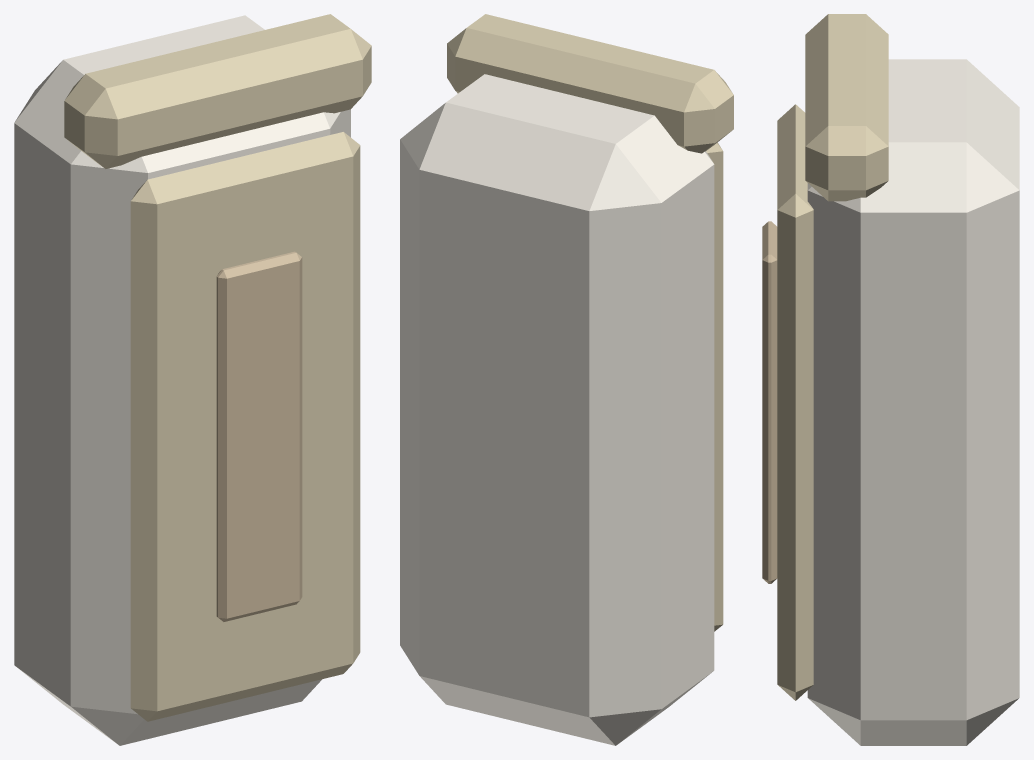
File: FTF_Equipment_CottonLegArmor_Left.glb
The picture shows the model from 3 angles, left to right: view 1: azimuth 30°, elevation 25°; view 2: azimuth 150°, elevation 25°; view 3: azimuth 270°, elevation 25°; orthographic projection. The views are drawn at different scales.
Visible parts, largest first — view 1: ShinOuterRim_L, ShinShell_L, ShinAccent_L, ShinTopCap_L; view 2: ShinShell_L, ShinTopCap_L, ShinOuterRim_L; view 3: ShinShell_L, ShinOuterRim_L, ShinTopCap_L, ShinAccent_L.
Boxes of the visible parts, bbox=[...] form: ShinOuterRim_L: bbox=[130, 132, 360, 721]; ShinShell_L: bbox=[14, 15, 350, 745]; ShinAccent_L: bbox=[216, 251, 302, 621]; ShinTopCap_L: bbox=[64, 14, 371, 168]; ShinShell_L: bbox=[400, 74, 714, 745]; ShinTopCap_L: bbox=[447, 14, 733, 153]; ShinOuterRim_L: bbox=[706, 142, 723, 631]; ShinShell_L: bbox=[807, 59, 1019, 745]; ShinOuterRim_L: bbox=[777, 104, 813, 700]; ShinTopCap_L: bbox=[805, 14, 888, 201]; ShinAccent_L: bbox=[762, 221, 777, 583].
Bounding box in the file's own units: 0.205 × 0.4625 × 0.17.
